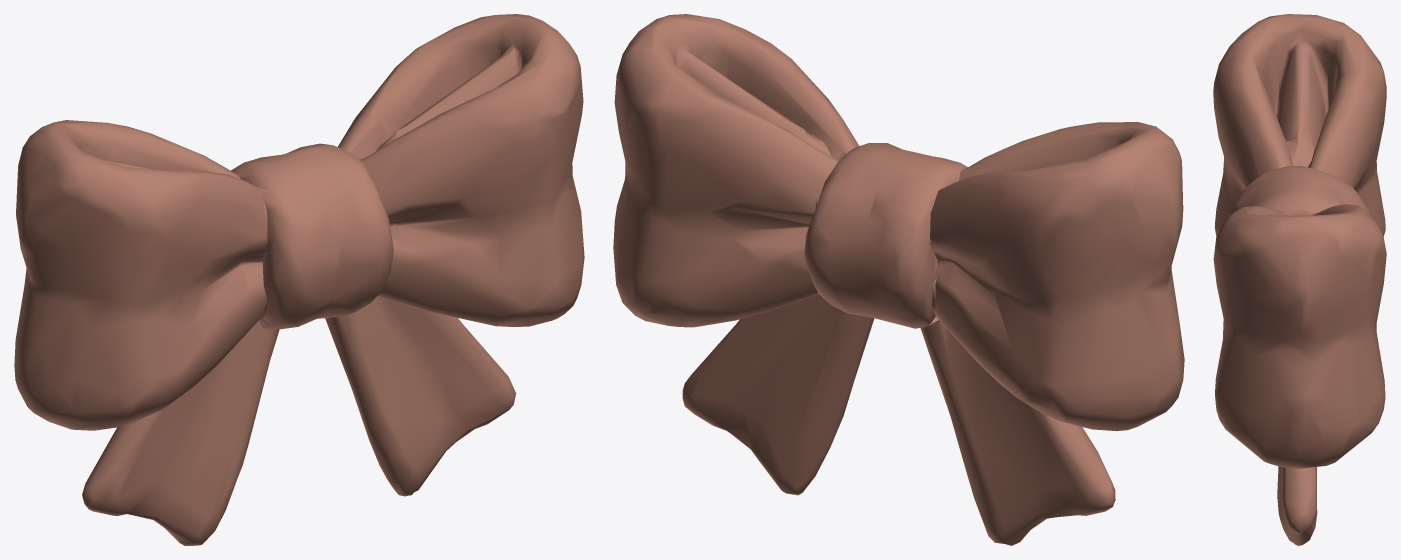
Rendered from bow_01.full.glb.
3 views of the same model, side by side, from view 1: azimuth 30°, elevation 25°; view 2: azimuth 150°, elevation 25°; view 3: azimuth 270°, elevation 25° (orthographic). The views are drawn at different scales.
Bounding box in the file's own units: 1.72 × 1.29 × 0.5298.
